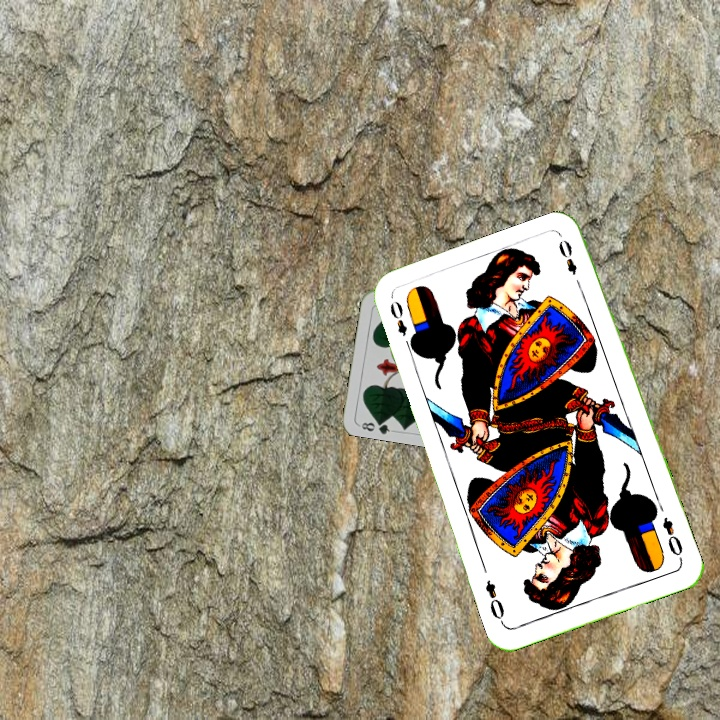EO: (386, 296, 416, 353), (658, 513, 686, 563)
G8: (356, 414, 396, 436)
